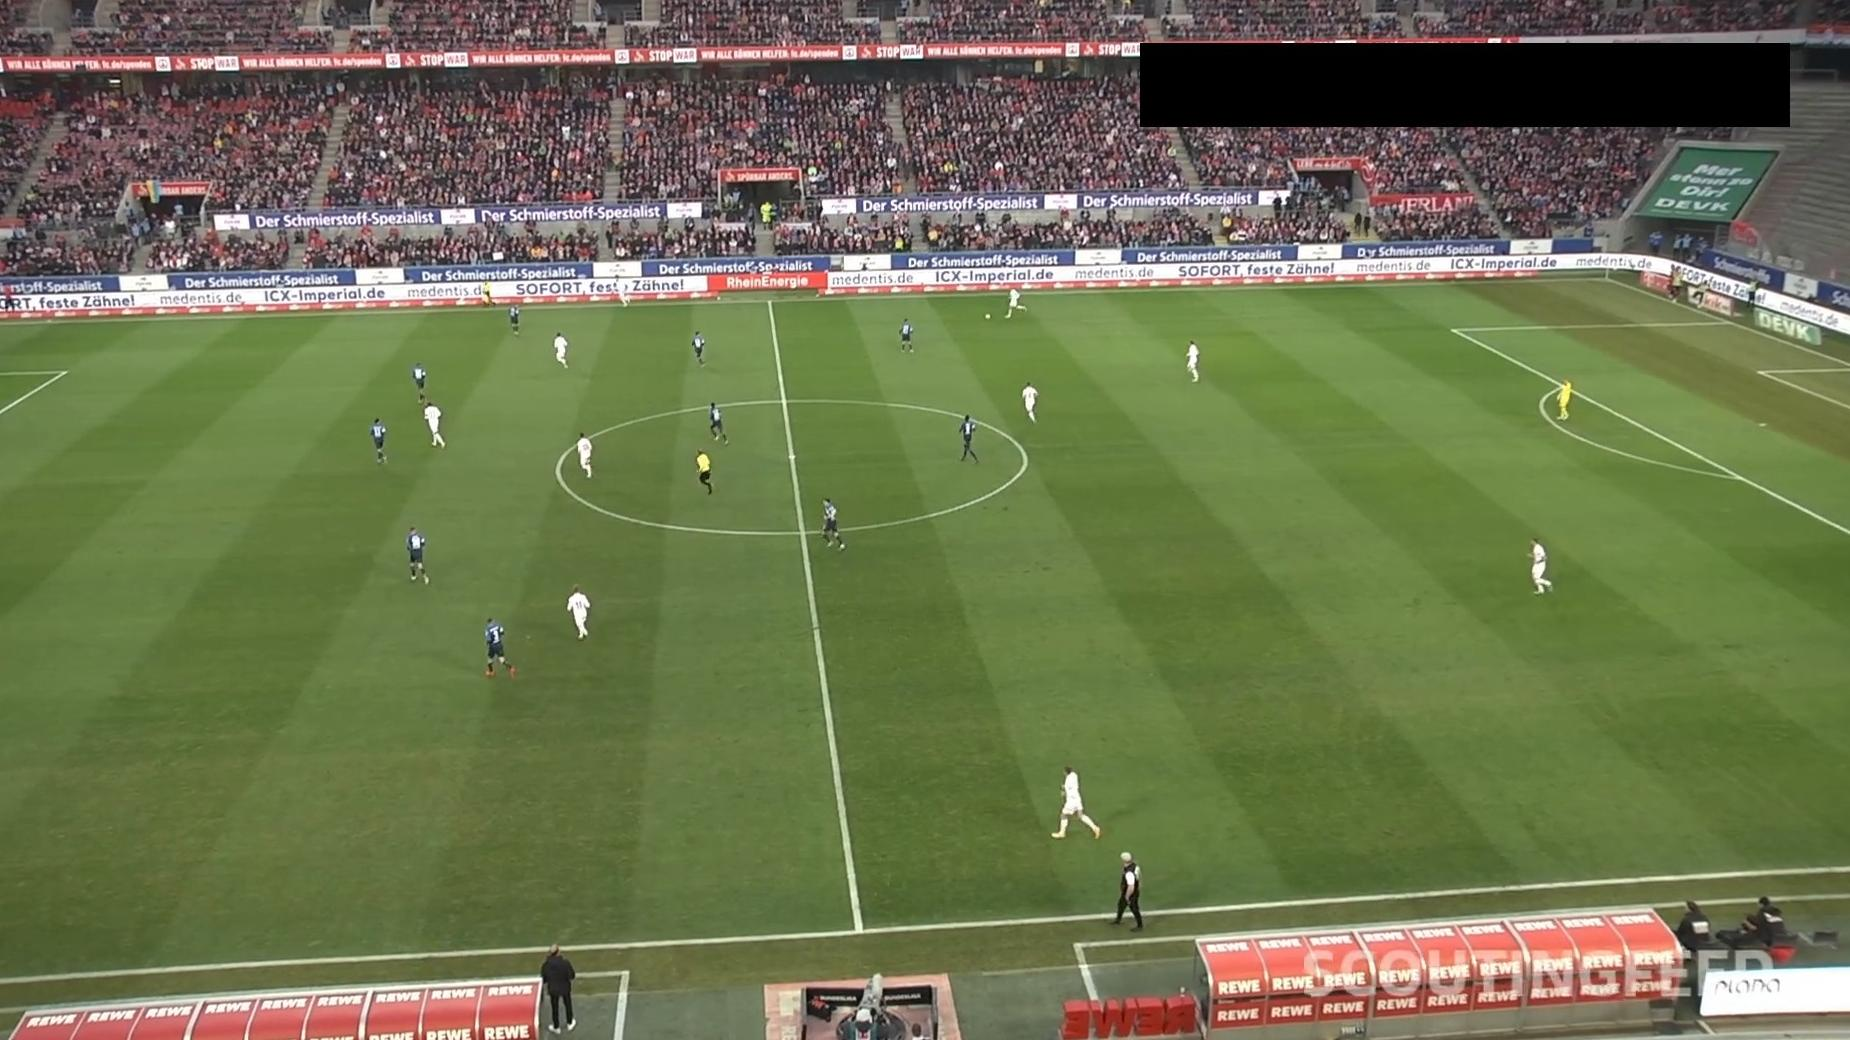ball: (983, 312, 992, 321)
